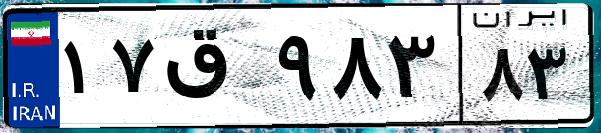1: (57, 26, 110, 100)
3: (385, 28, 445, 110), (525, 38, 570, 115)
7: (110, 28, 158, 98)
8: (330, 28, 385, 110), (475, 38, 525, 113)
9: (270, 28, 330, 110)
ق: (158, 20, 270, 120)
